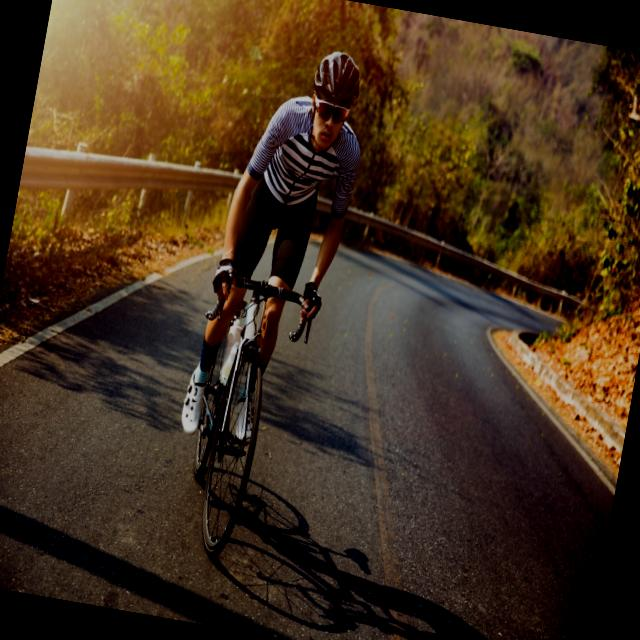goggles: (311, 92, 354, 126)
no-vest: (238, 107, 364, 228)
